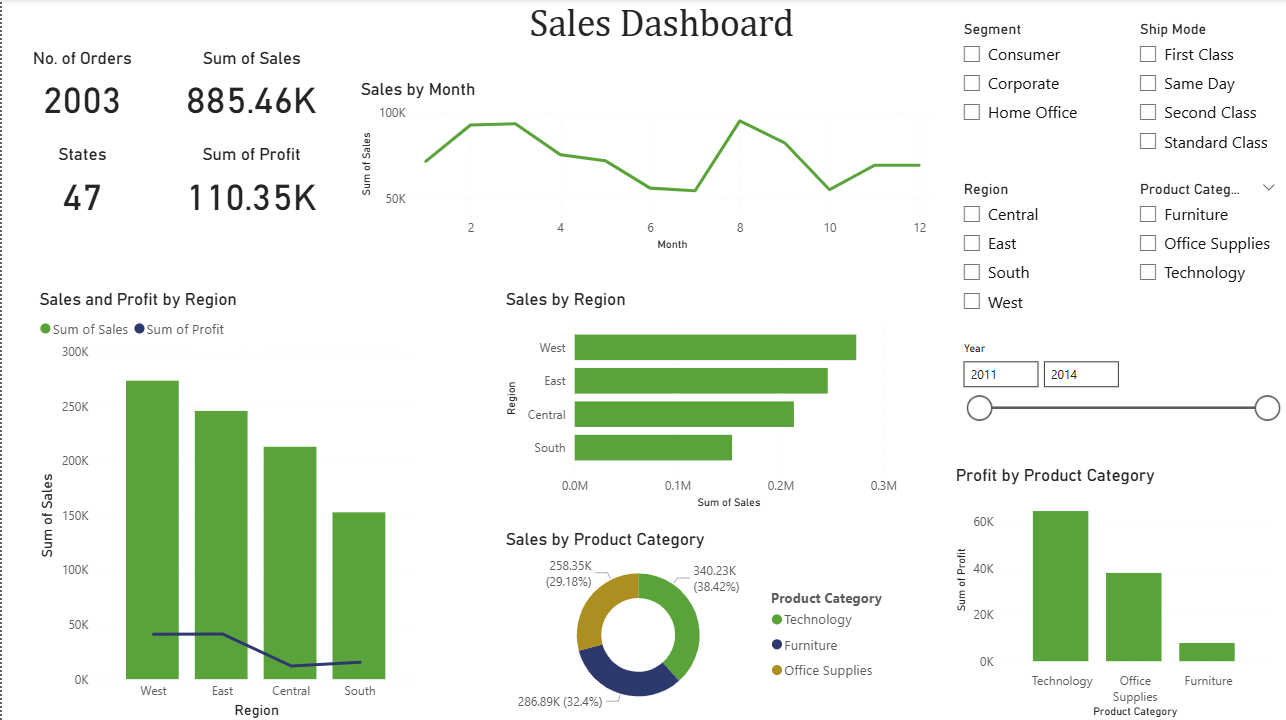

The page's visual inventory and layout, read from the dashboard file:
{"tool":"powerbi","page":{"name":"Page 1","canvas":[1280,720],"ordinal":0},"visuals":[{"type":"card","title":"No. of Orders","fields":{"Values":["Count(Superstore_sales.Order ID)"]},"box":[0,48,160,80],"z":0},{"type":"card","title":"Sum of Sales","fields":{"Values":["Sum(Superstore_sales.Sales)"]},"box":[160,48,176,80],"z":1000},{"type":"card","title":"Sum of Profit","fields":{"Values":["Sum(Superstore_sales.Profit)"]},"box":[160,144,176,80],"z":2000},{"type":"card","title":"States","fields":{"Values":["Count(Superstore_sales.State)"]},"box":[0,144,160,80],"z":3000},{"type":"slicer","fields":{"Values":["Superstore_sales.Product Category"]},"box":[1120,176,160,160],"z":3001},{"type":"slicer","fields":{"Values":["Superstore_sales.Region"]},"box":[944,176,176,160],"z":3002},{"type":"slicer","fields":{"Values":["Superstore_sales.Ship Mode"]},"box":[1120,16,160,160],"z":3003},{"type":"slicer","fields":{"Values":["Superstore_sales.Segment"]},"box":[944,16,176,160],"z":3004},{"type":"lineChart","title":"Sales by Month","fields":{"Category":["Superstore_sales.Month"],"Y":["Sum(Superstore_sales.Sales)"]},"box":[352,80,576,176],"z":3005},{"type":"slicer","fields":{"Values":["Superstore_sales.Year"]},"box":[944,336,336,96],"z":3006},{"type":"clusteredBarChart","title":"Sales by Region","fields":{"Category":["Superstore_sales.Region"],"Y":["Sum(Superstore_sales.Sales)"]},"box":[496,288,400,224],"z":3007},{"type":"donutChart","title":"Sales by Product Category","fields":{"Category":["Superstore_sales.Product Category"],"Y":["Sum(Superstore_sales.Sales)"]},"box":[496,528,400,192],"z":3008},{"type":"lineClusteredColumnComboChart","title":"Sales and Profit by Region","fields":{"Y":["Sum(Superstore_sales.Sales)"],"Category":["Superstore_sales.Region"],"Y2":["Sum(Superstore_sales.Profit)"]},"box":[32,288,384,432],"z":3009},{"type":"clusteredColumnChart","title":"Profit by Product Category","fields":{"Category":["Superstore_sales.Product Category"],"Y":["Sum(Superstore_sales.Profit)"]},"box":[944,464,320,256],"z":3010},{"type":"textbox","box":[400,0,512,64],"z":3011}]}

Visuals, with their boxes in screenshot pixels (x1, y1, x2, y2), scaled from the page's 1280x720 canvas onto the 1286x720 screenshot:
"No. of Orders" card: [x1=0, y1=48, x2=161, y2=128]
"Sum of Sales" card: [x1=161, y1=48, x2=338, y2=128]
"Sum of Profit" card: [x1=161, y1=144, x2=338, y2=224]
"States" card: [x1=0, y1=144, x2=161, y2=224]
slicer - Superstore_sales.Product Category: [x1=1125, y1=176, x2=1285, y2=336]
slicer - Superstore_sales.Region: [x1=948, y1=176, x2=1125, y2=336]
slicer - Superstore_sales.Ship Mode: [x1=1125, y1=16, x2=1285, y2=176]
slicer - Superstore_sales.Segment: [x1=948, y1=16, x2=1125, y2=176]
"Sales by Month" lineChart: [x1=354, y1=80, x2=932, y2=256]
slicer - Superstore_sales.Year: [x1=948, y1=336, x2=1285, y2=432]
"Sales by Region" clusteredBarChart: [x1=498, y1=288, x2=900, y2=512]
"Sales by Product Category" donutChart: [x1=498, y1=528, x2=900, y2=719]
"Sales and Profit by Region" lineClusteredColumnComboChart: [x1=32, y1=288, x2=418, y2=719]
"Profit by Product Category" clusteredColumnChart: [x1=948, y1=464, x2=1270, y2=719]
textbox: [x1=402, y1=0, x2=916, y2=64]
